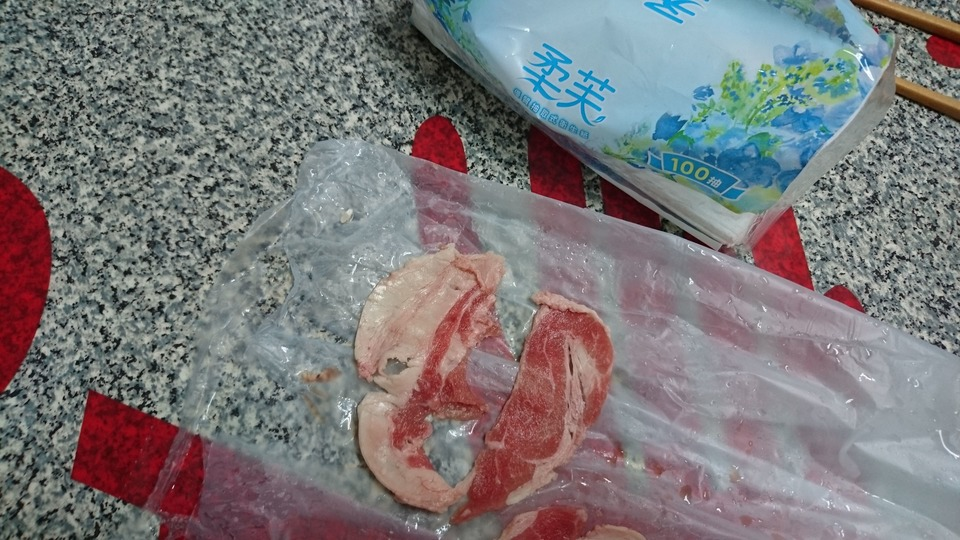restructured meat: (359, 248, 618, 522)
